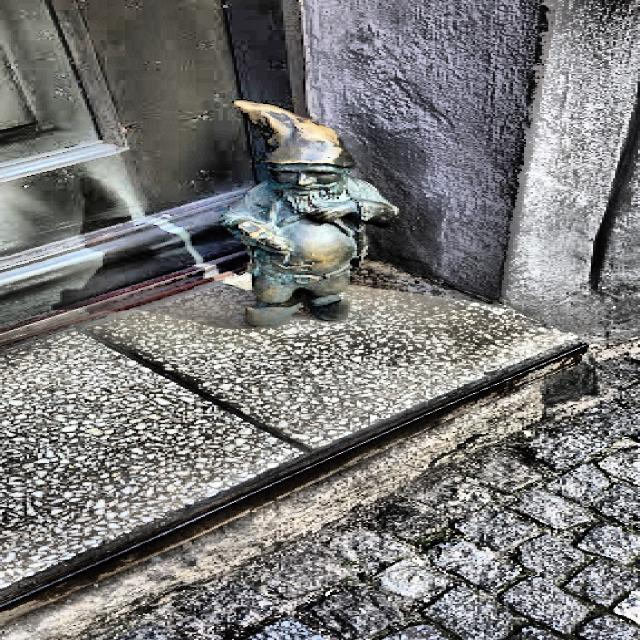TatuazystaKonstanty: (224, 101, 398, 326)
